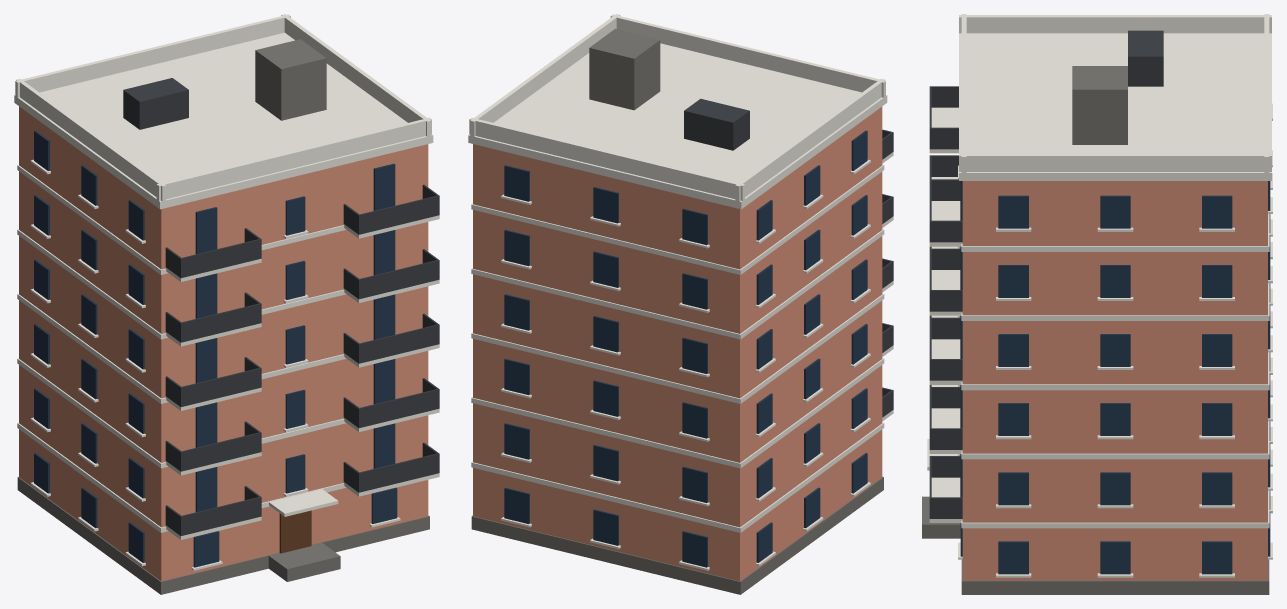
Rendered from Apartman_B.fbx.
3 views of the same model, side by side, from view 1: azimuth 30°, elevation 25°; view 2: azimuth 150°, elevation 25°; view 3: azimuth 270°, elevation 25° (orthographic). The views are drawn at different scales.
Visible parts, largest first — view 1: Apartman_B; view 2: Apartman_B; view 3: Apartman_B.
Part boxes in pixels (box(x1,y1,x2,y2)): Apartman_B: box(14, 14, 439, 594); Apartman_B: box(468, 14, 893, 594); Apartman_B: box(922, 14, 1272, 594).
Size of the model in its own units: 13.38 by 20.75 by 13.79.
